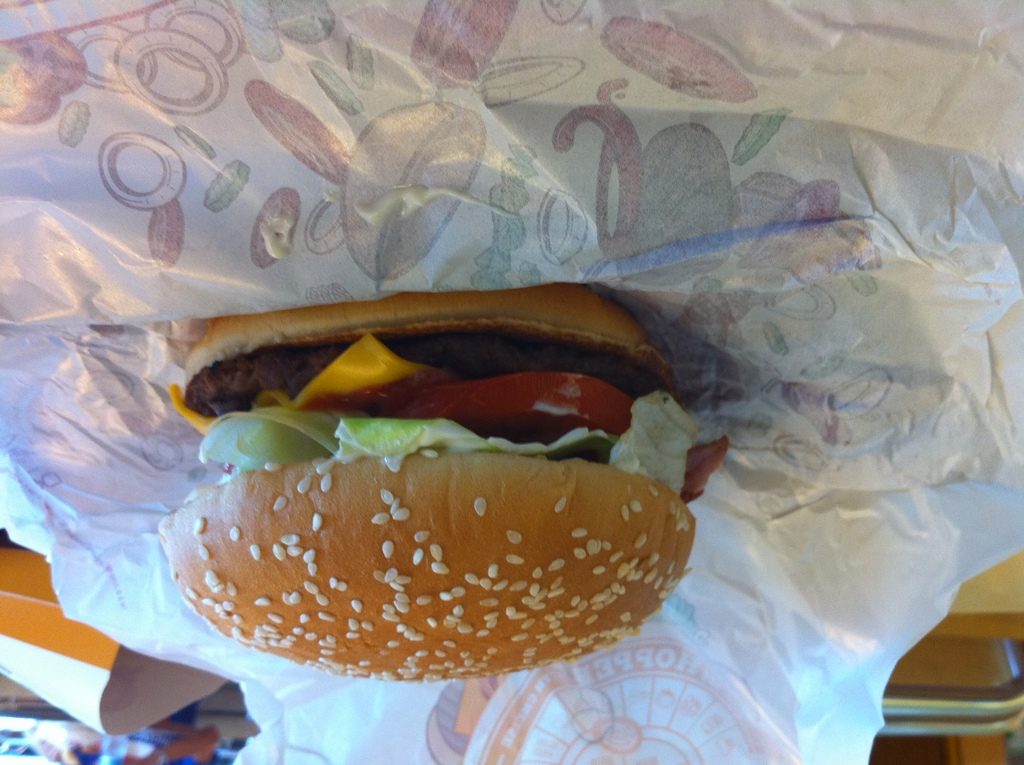Hamburger: (152, 281, 731, 683)
